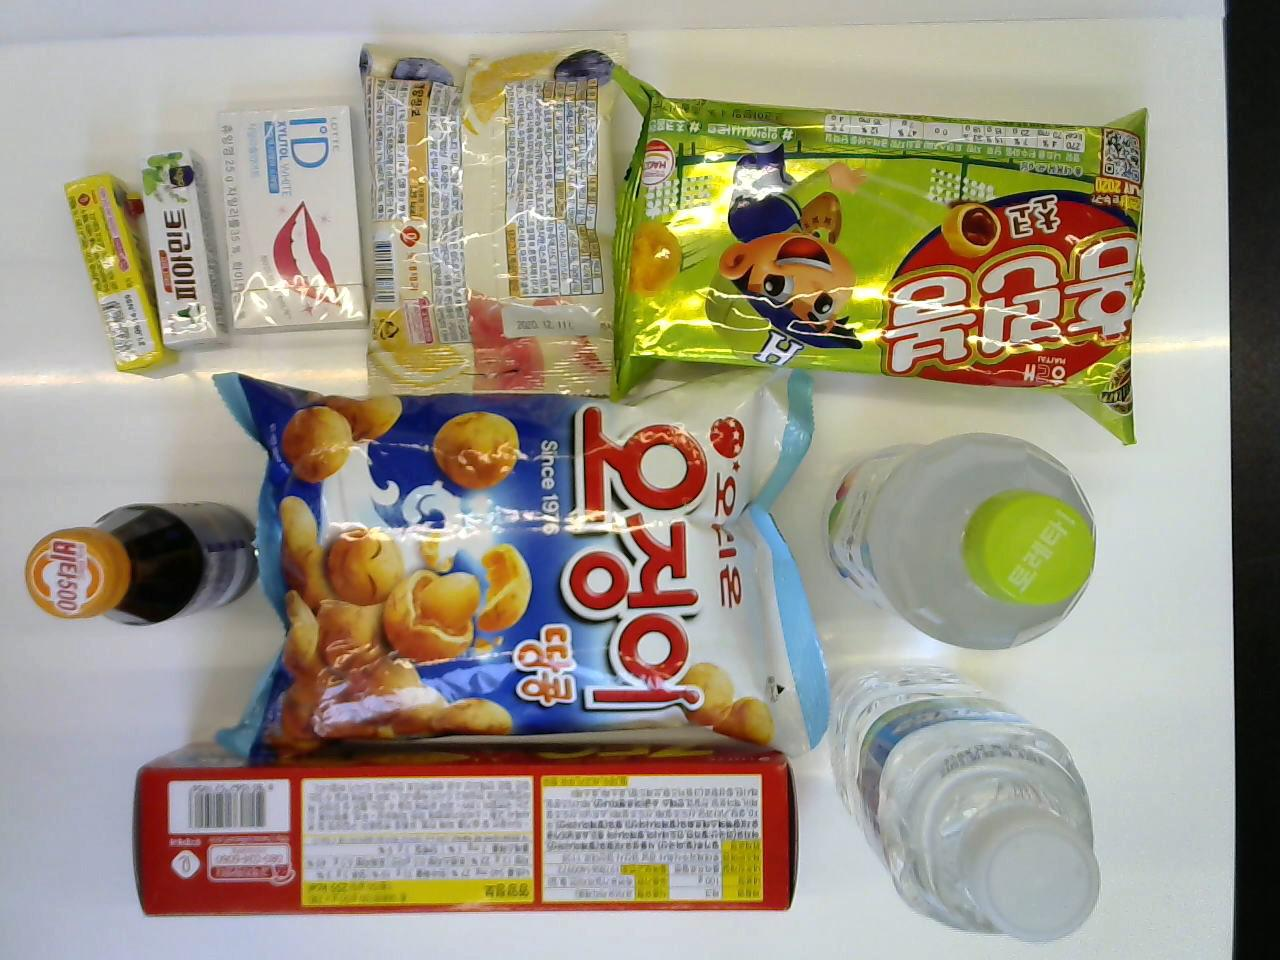ID_gum: (214, 107, 376, 333)
gumi_gumi: (354, 33, 630, 402)
homerunball: (610, 47, 1149, 448)
juicyfresh: (59, 169, 165, 375)
samdasu: (825, 662, 1101, 947)
spearmint: (136, 146, 230, 351)
squid_peanut: (212, 359, 829, 764)
toreta: (819, 432, 1094, 656)
vita500: (24, 486, 258, 642)
zec: (130, 732, 797, 920)
